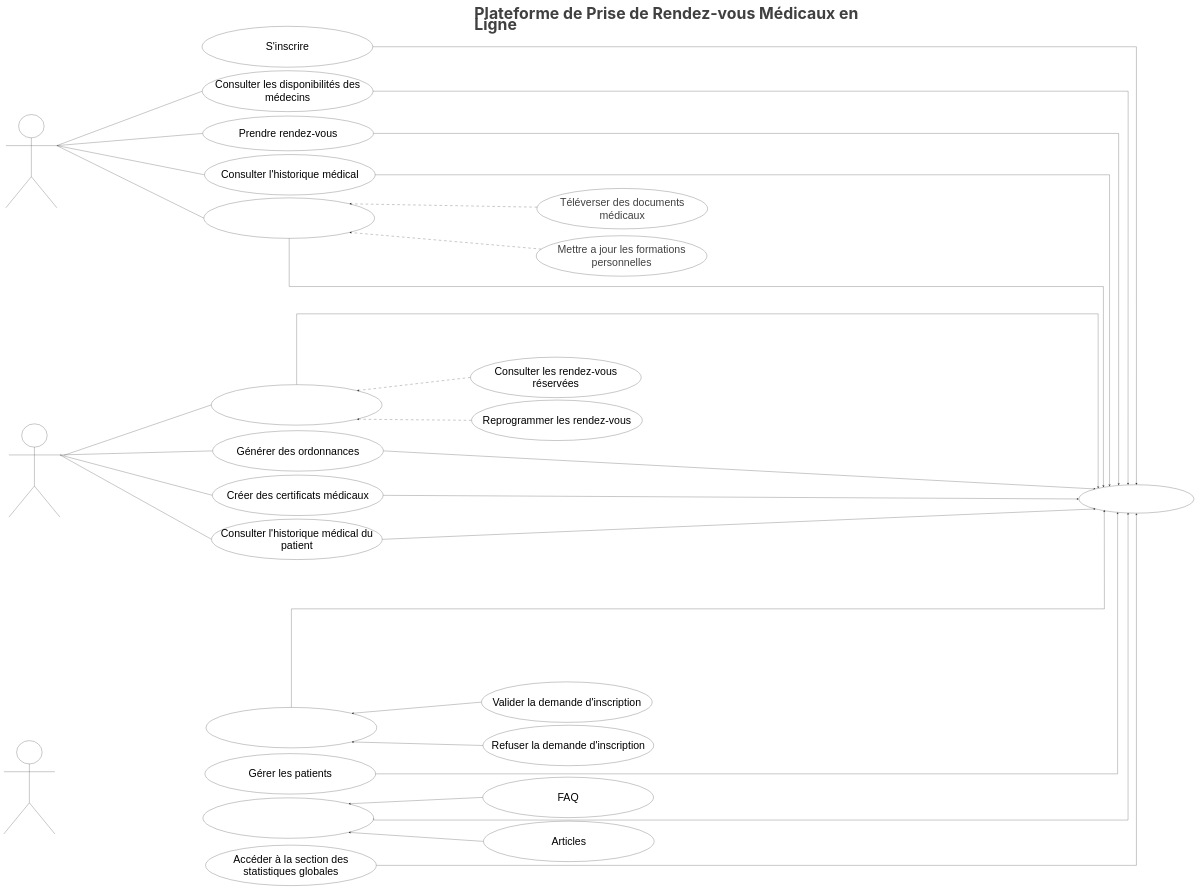
This 1198x889 diagram has some shape labels left out. Here are the shapes that lost their labels. From the top down, the centre of each, then its label:
At (x=31, y=161): "Patient".
At (x=289, y=218): "Gérer dossier médical".
At (x=296, y=404): "Gérer les rendez-vous".
At (x=34, y=470): "Doctor".
At (x=1136, y=499): "Se connecter".
At (x=291, y=727): "Gérer les comptes médecins".
At (x=29, y=787): "Admin".
At (x=288, y=818): "Gérer les contenus".
